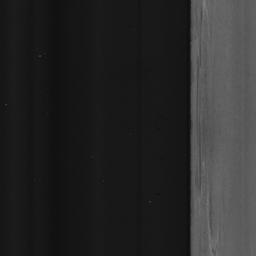Silk spot: (199, 120, 215, 190), (203, 182, 215, 241), (236, 168, 248, 216), (235, 127, 248, 160), (239, 97, 249, 114), (200, 44, 207, 65), (234, 84, 248, 94), (244, 64, 250, 80)
